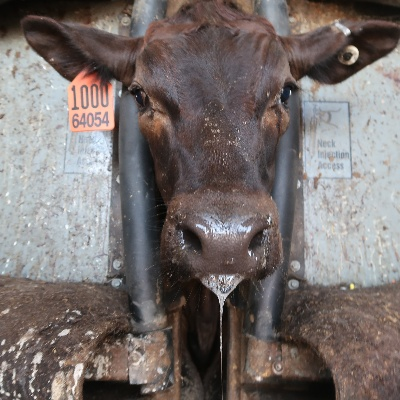fidget_spinner: (159, 199, 277, 287)
